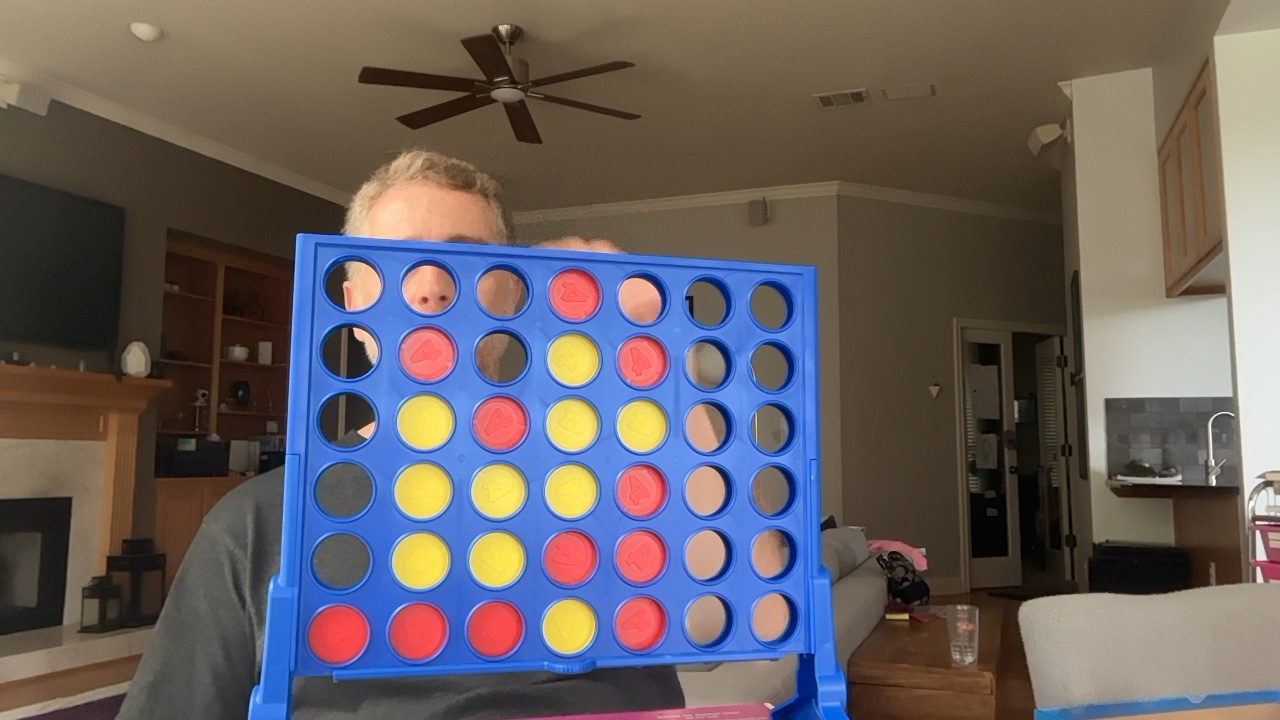red piece: (308, 605, 368, 664), (389, 603, 447, 661), (467, 601, 523, 658), (400, 327, 456, 381), (473, 396, 528, 450), (544, 530, 597, 586), (615, 596, 666, 651), (615, 530, 666, 584), (616, 464, 667, 518), (617, 335, 668, 389), (549, 268, 601, 320)
yellow piece: (394, 462, 452, 519), (392, 532, 449, 590), (469, 531, 525, 588), (471, 463, 527, 519), (397, 394, 454, 449), (542, 598, 596, 655), (545, 463, 598, 519), (546, 398, 599, 451), (547, 333, 600, 386), (617, 399, 667, 452)
